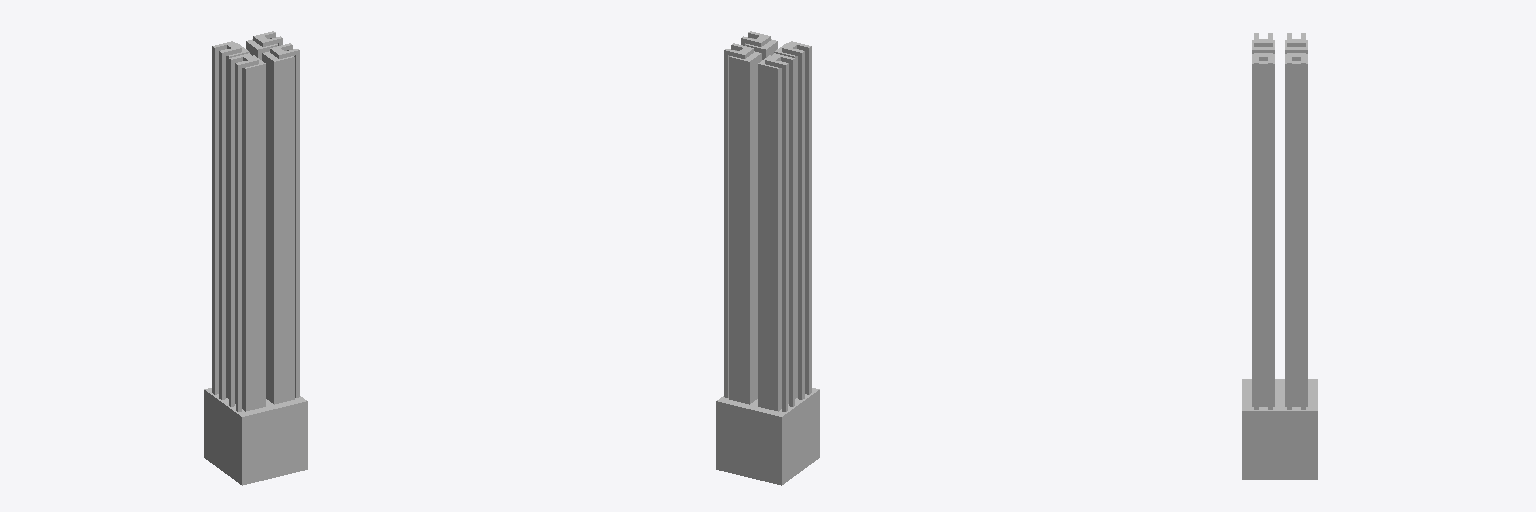
Rendered from gas_centrifuge_mirrored.obj.
3 views of the same model, side by side, from view 1: azimuth 30°, elevation 25°; view 2: azimuth 150°, elevation 25°; view 3: azimuth 270°, elevation 25° (orthographic).
Visible parts, largest first — view 1: cube; view 2: cube; view 3: cube.
Part boxes in pixels (bbox=[...]): cube: bbox=[204, 31, 307, 485]; cube: bbox=[716, 31, 819, 485]; cube: bbox=[1242, 33, 1317, 479].
Bounding box in the file's own units: 1 × 6.06 × 1.